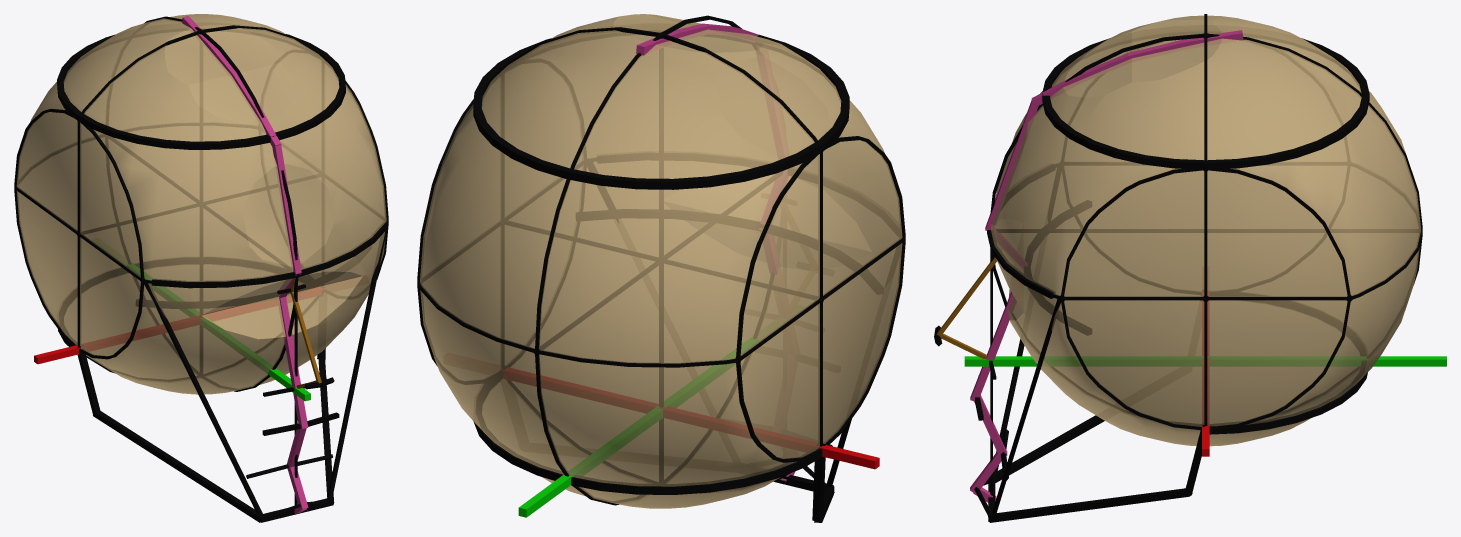
File: ModifiedCenterLine.glb
3 renders of one model, left to right at view 1: azimuth 30°, elevation 25°; view 2: azimuth 150°, elevation 25°; view 3: azimuth 270°, elevation 25°, orthographic. The views are drawn at different scales.
Visible parts, largest first — view 1: Loomis_Head_Animmation.003, Sphere.038, Circle.010, Plane.027, Plane.026, Plane.021, Sphere.039, Circle.011, Plane.022, Sphere.040, Plane.065, Plane.062 (+5 smaller); view 2: Loomis_Head_Animmation.003, Sphere.038, Circle.010, Circle.011, Plane.021, Plane.022, Sphere.040, Sphere.039, Plane.065, Plane.066, Plane.027, Plane.025; view 3: Loomis_Head_Animmation.003, Sphere.038, Circle.010, Plane.022, Plane.026, Circle.011, Plane.065, Plane.027, Sphere.040, Plane.066, Sphere.039, Plane.062 (+1 smaller).
Boxes of the visible parts, x1,y1,x2,y2 form: Loomis_Head_Animmation.003: [16, 14, 386, 394]; Sphere.038: [14, 16, 388, 391]; Circle.010: [57, 28, 345, 149]; Plane.027: [144, 222, 388, 516]; Plane.026: [93, 356, 333, 522]; Plane.021: [34, 286, 324, 364]; Sphere.039: [151, 222, 387, 288]; Circle.011: [58, 257, 311, 346]; Plane.022: [127, 263, 310, 401]; Sphere.040: [136, 245, 371, 308]; Plane.065: [182, 16, 281, 148]; Plane.062: [278, 296, 308, 428]; Loomis_Head_Animmation.003: [420, 14, 902, 508]; Sphere.038: [417, 15, 905, 505]; Circle.010: [473, 30, 849, 189]; Circle.011: [473, 371, 822, 494]; Plane.021: [500, 368, 879, 469]; Plane.022: [518, 338, 758, 517]; Sphere.040: [576, 209, 883, 294]; Sphere.039: [597, 153, 899, 236]; Plane.065: [636, 23, 758, 55]; Plane.066: [756, 52, 787, 159]; Plane.027: [587, 160, 900, 486]; Plane.025: [503, 366, 825, 522]; Loomis_Head_Animmation.003: [991, 15, 1420, 446]; Sphere.038: [990, 14, 1422, 430]; Circle.010: [1042, 31, 1369, 169]; Plane.022: [964, 356, 1446, 366]; Plane.026: [988, 415, 1192, 522]; Circle.011: [1209, 292, 1367, 434]; Plane.065: [1031, 30, 1243, 105]; Plane.027: [991, 165, 1062, 515]; Sphere.040: [1024, 200, 1091, 335]; Plane.066: [985, 100, 1039, 230]; Sphere.039: [987, 164, 1054, 298]; Plane.062: [970, 268, 1023, 400].
Bounding box in the file's own units: 1.98 × 2.38 × 2.34.
